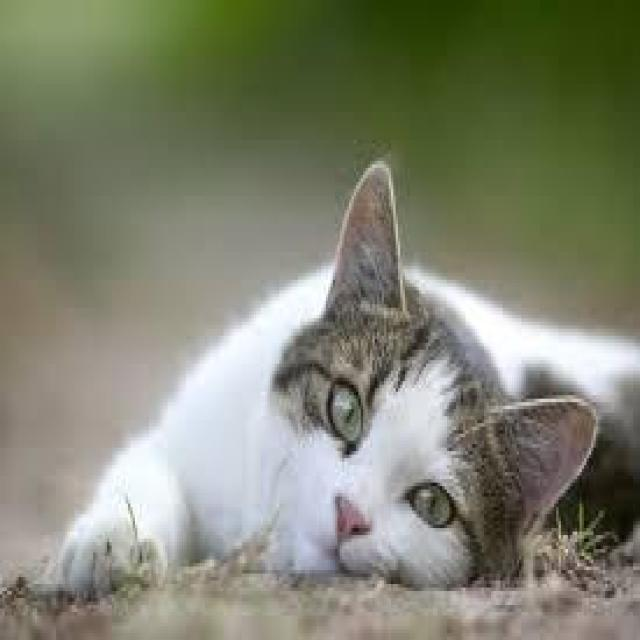Cat: (258, 152, 608, 599)
